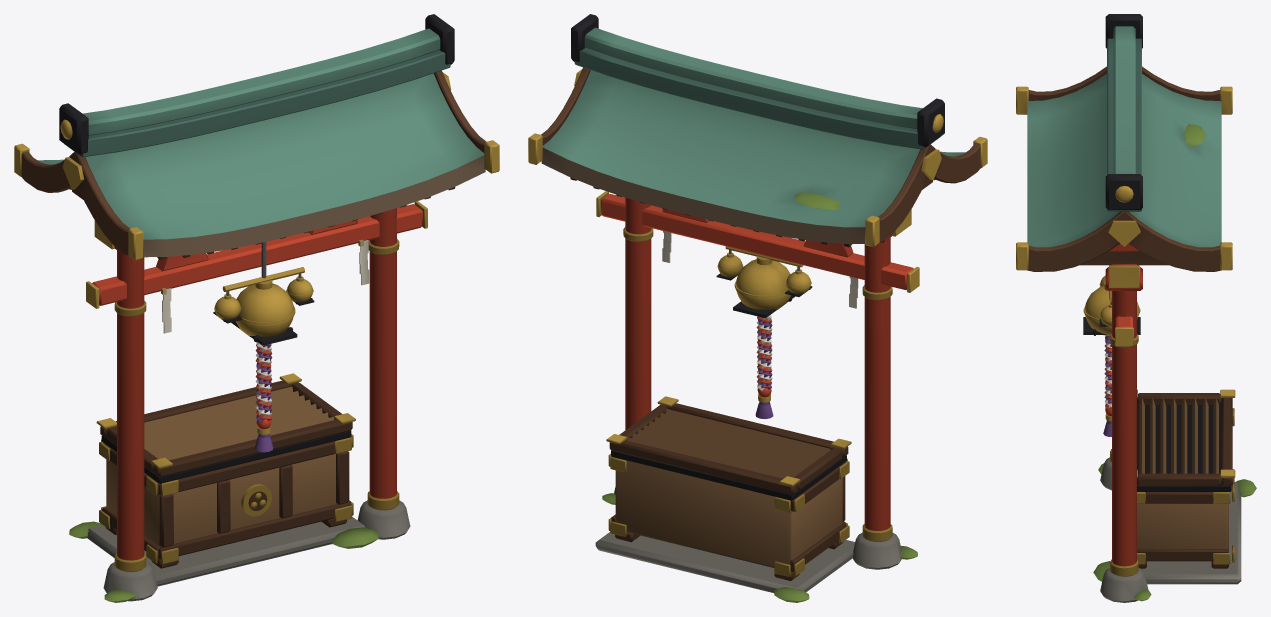
File: offering_box.glb
The picture shows the model from 3 angles, left to right: view 1: azimuth 30°, elevation 25°; view 2: azimuth 150°, elevation 25°; view 3: azimuth 270°, elevation 25°; orthographic projection. The views are drawn at different scales.
Visible parts, largest first — view 1: offering_box, bell, rope; view 2: offering_box, bell, rope; view 3: offering_box, bell, rope.
Part boxes in pixels (<box>): offering_box: <box>14,14,499,602</box>; bell: <box>213,241,314,345</box>; rope: <box>254,342,273,452</box>; offering_box: <box>528,14,987,602</box>; bell: <box>716,246,812,318</box>; rope: <box>755,314,773,419</box>; offering_box: <box>1016,14,1256,602</box>; bell: <box>1083,275,1140,336</box>; rope: <box>1103,335,1111,436</box>.
Size of what is drawn, in the model's own units: 3.22 by 3.93 by 1.93.
